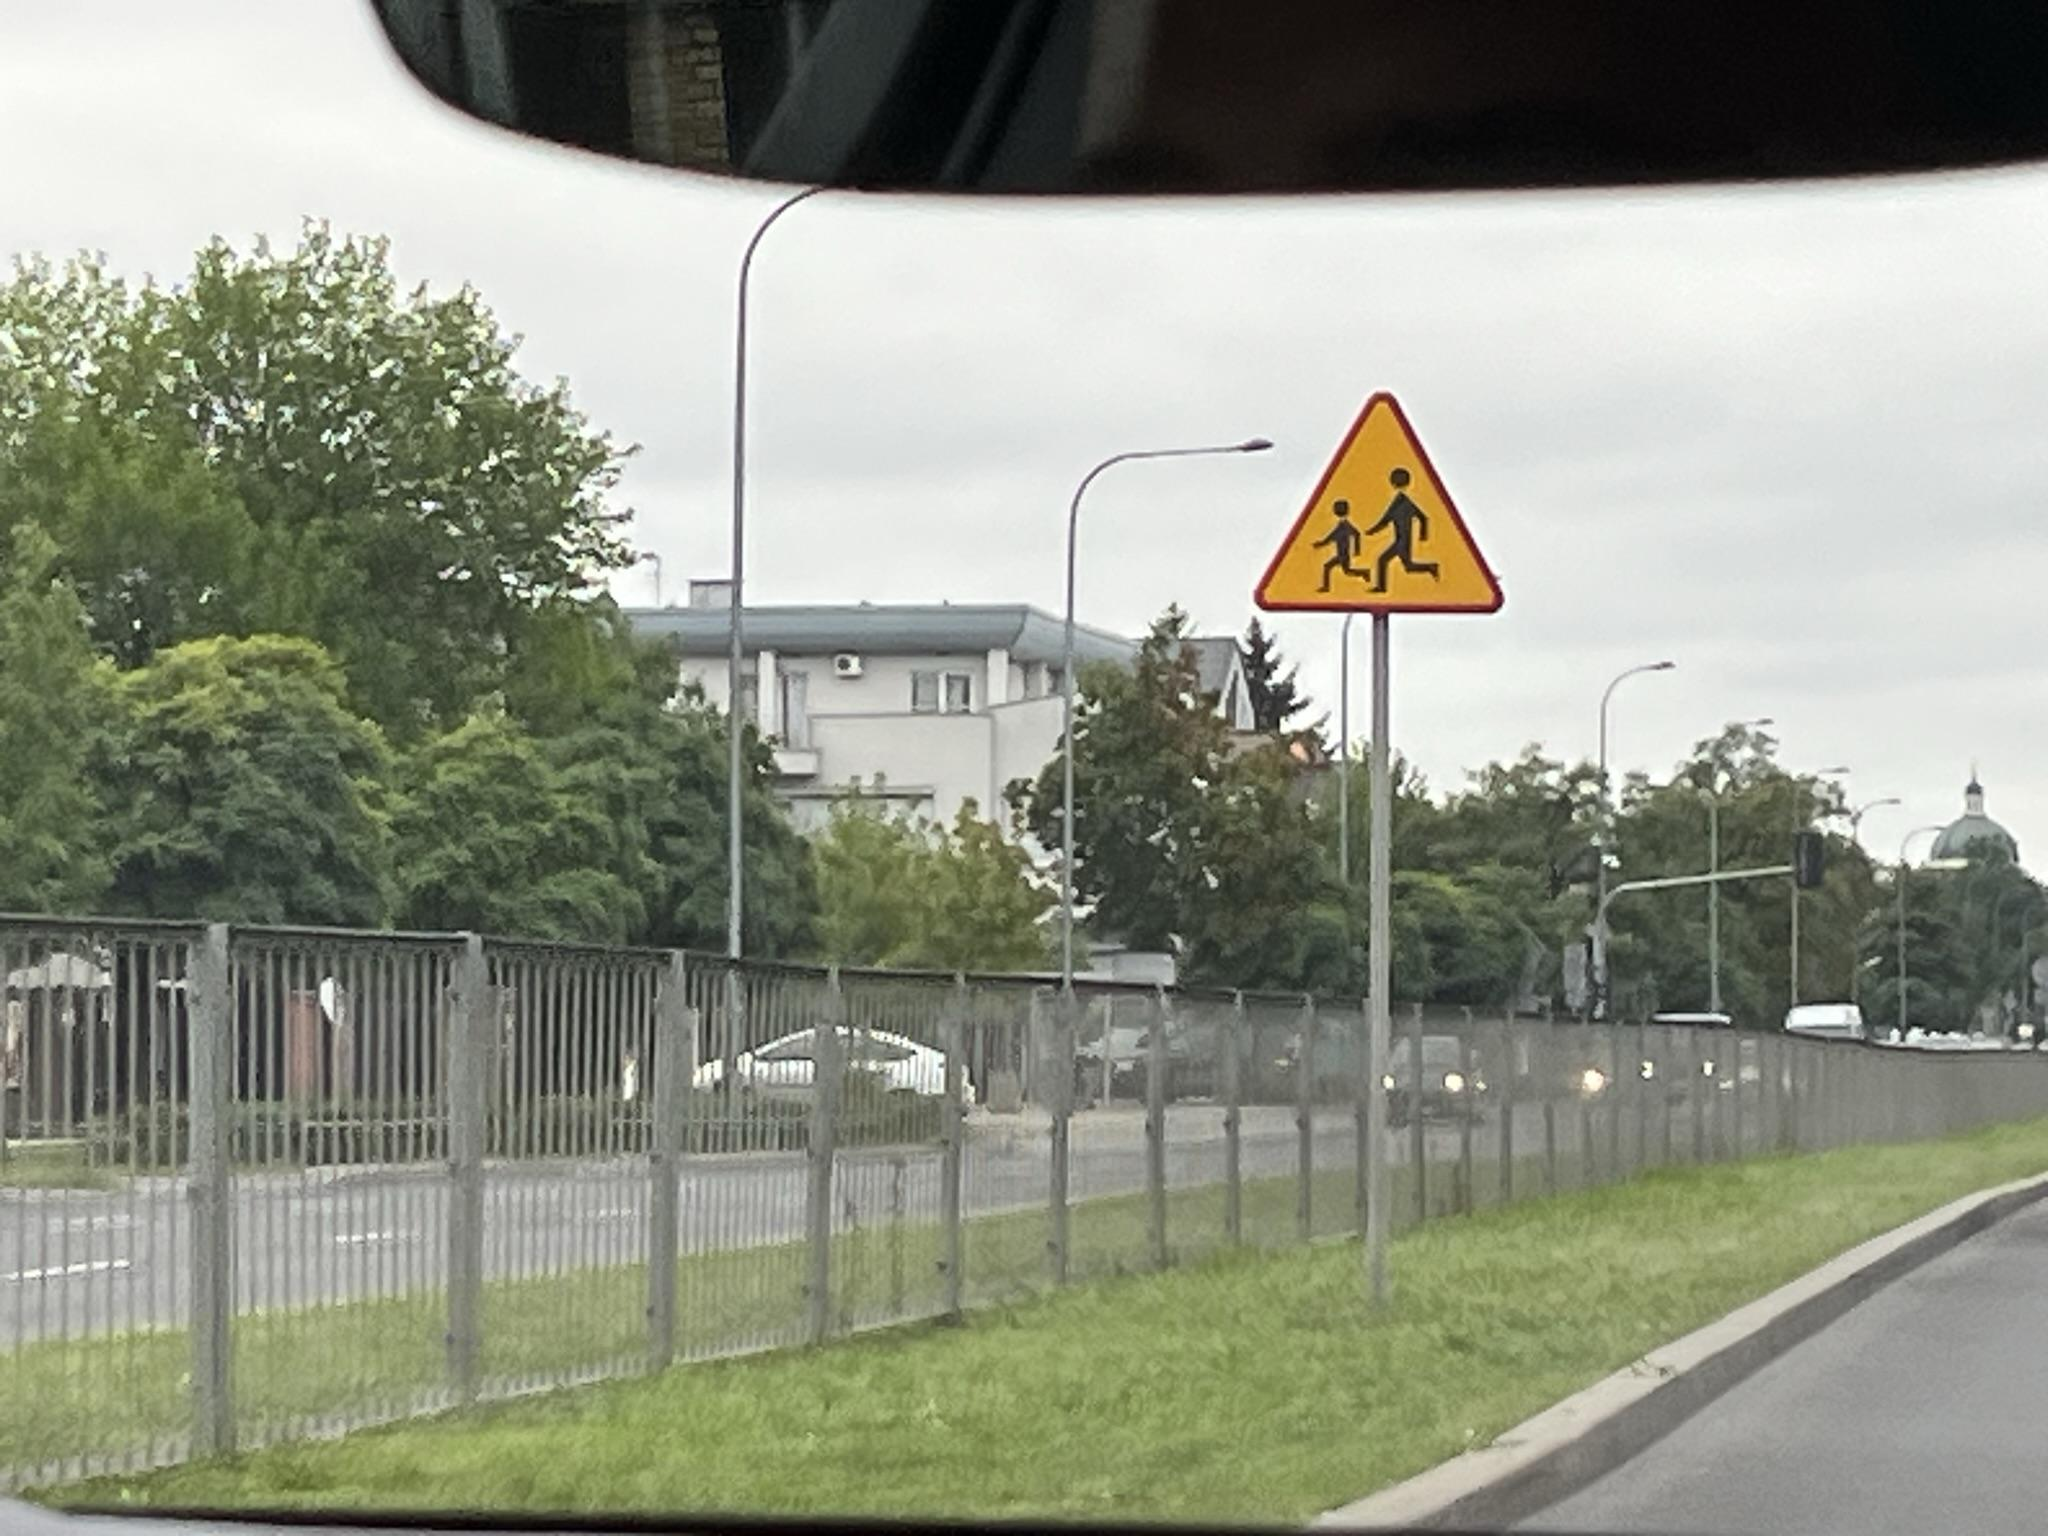warning: (1251, 384, 1506, 623)
